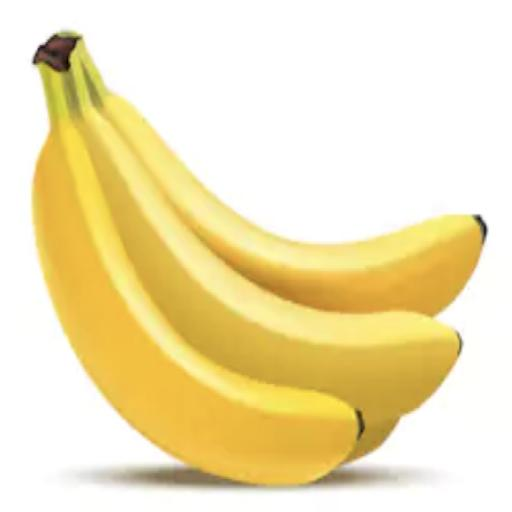banana: (66, 38, 461, 426), (34, 47, 363, 484), (82, 50, 486, 316)
